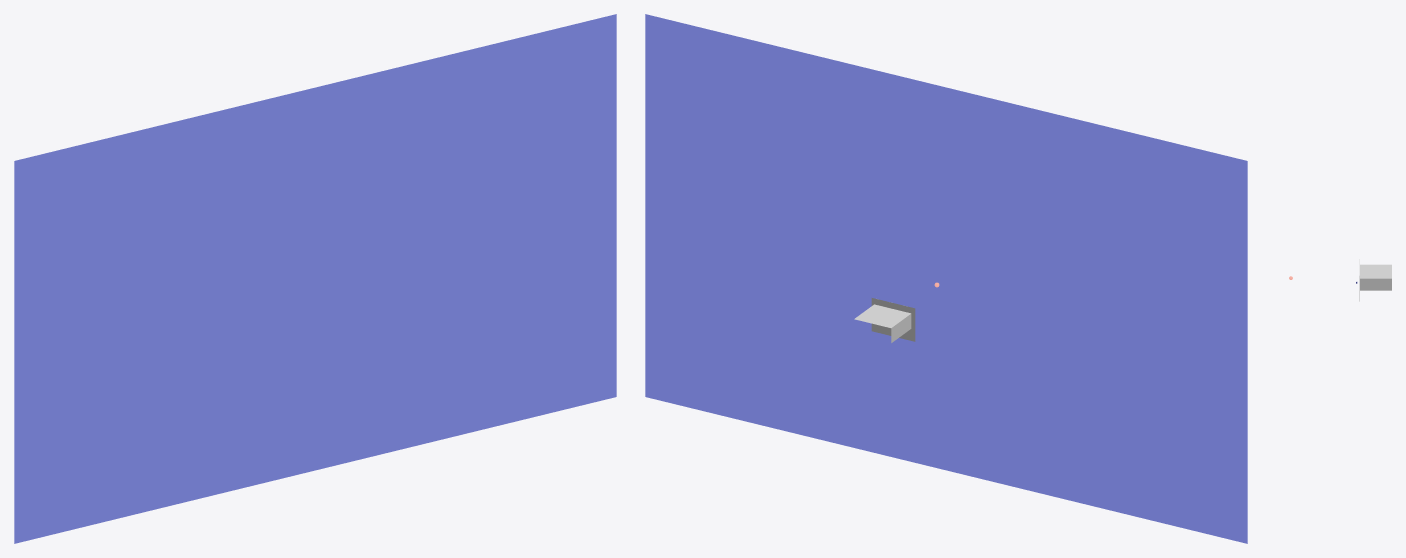
File: myhome.gltf
The picture shows the model from 3 angles, left to right: view 1: azimuth 30°, elevation 25°; view 2: azimuth 150°, elevation 25°; view 3: azimuth 270°, elevation 25°; orthographic projection. The views are drawn at different scales.
Visible parts, largest first — view 1: sky; view 2: sky, house; view 3: house.
Part boxes in pixels (x1,y1,x2,y2): sky: (14,14,616,543); sky: (645,14,1247,543); house: (854,298,915,342); house: (1359,259,1391,301).
Size of the model in its own units: 599 by 364 by 127.
